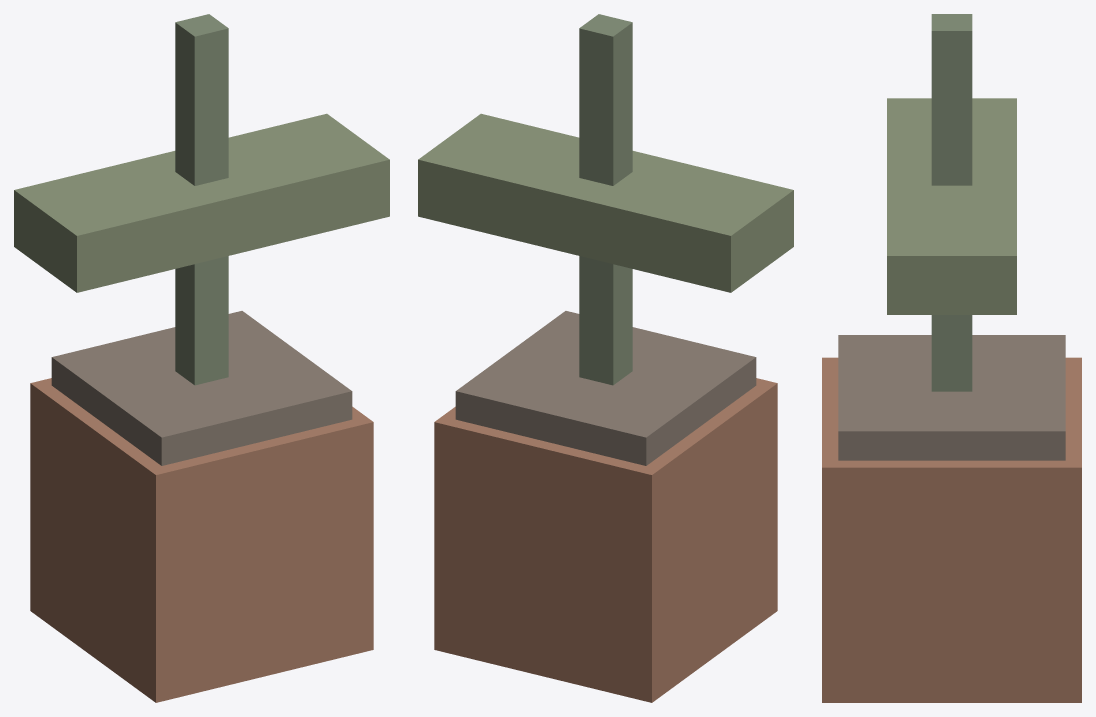
Rendered from plant_pot_small.glb.
The picture shows the model from 3 angles, left to right: view 1: azimuth 30°, elevation 25°; view 2: azimuth 150°, elevation 25°; view 3: azimuth 270°, elevation 25°; orthographic projection. The views are drawn at different scales.
Visible parts, largest first — view 1: body; view 2: body; view 3: body.
Boxes of the visible parts, x1,y1,x2,y2 form: body: (14,14,389,702); body: (418,14,793,702); body: (822,14,1081,702).
Size of the model in its own units: 0.23 by 0.425 by 0.16.
